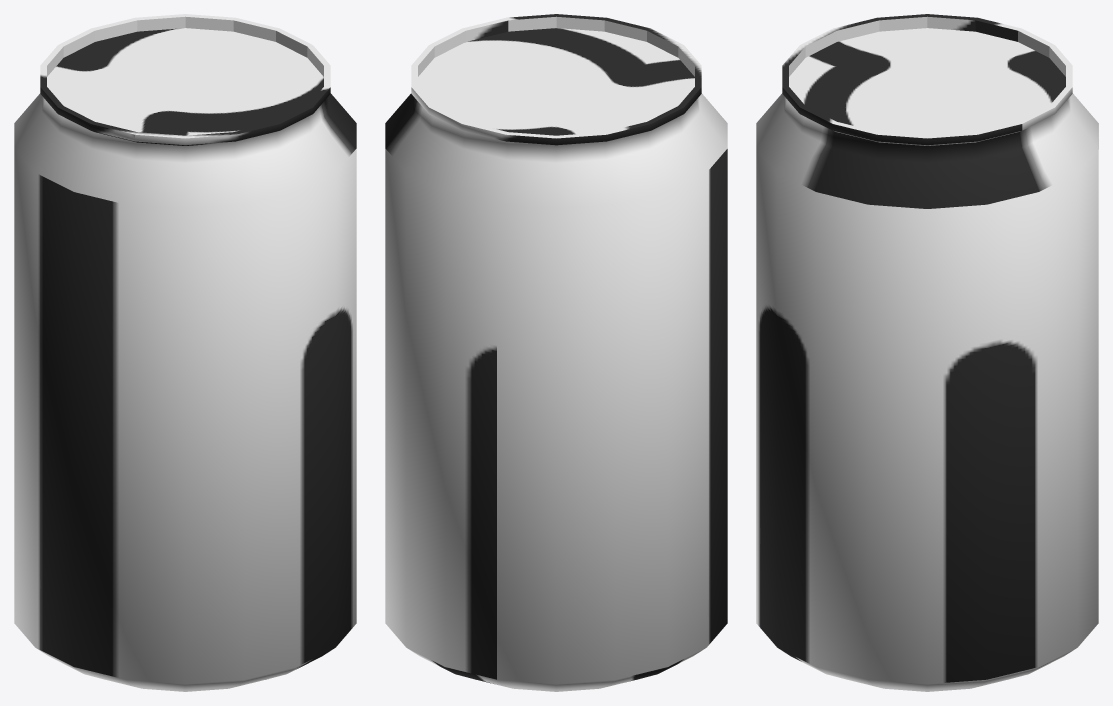
File: Beer 1.FBX
The picture shows the model from 3 angles, left to right: view 1: azimuth 30°, elevation 25°; view 2: azimuth 150°, elevation 25°; view 3: azimuth 270°, elevation 25°; orthographic projection.
Parts seen in each view (by area): view 1: beer 1; view 2: beer 1; view 3: beer 1.
Part boxes in pixels (x1=…): beer 1: x1=14, y1=14, x2=356, y2=691; beer 1: x1=385, y1=14, x2=727, y2=691; beer 1: x1=756, y1=14, x2=1098, y2=691.
Size of the model in its own units: 6.92 by 12.36 by 6.81.
